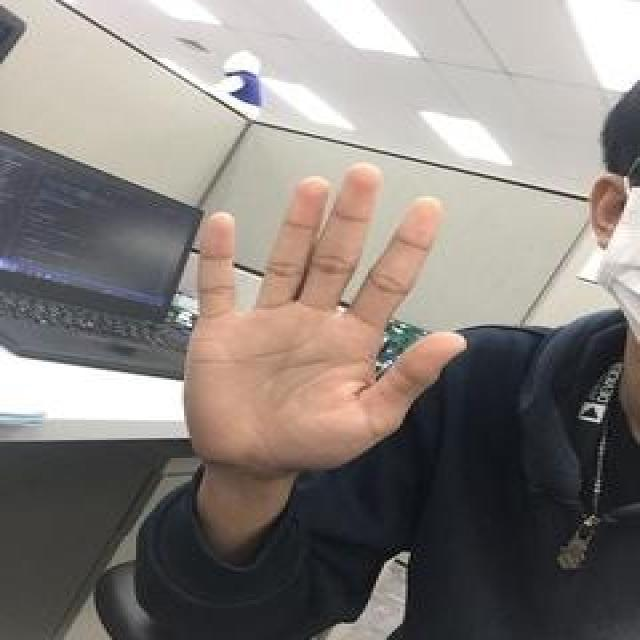no-gloves: (180, 160, 468, 474)
